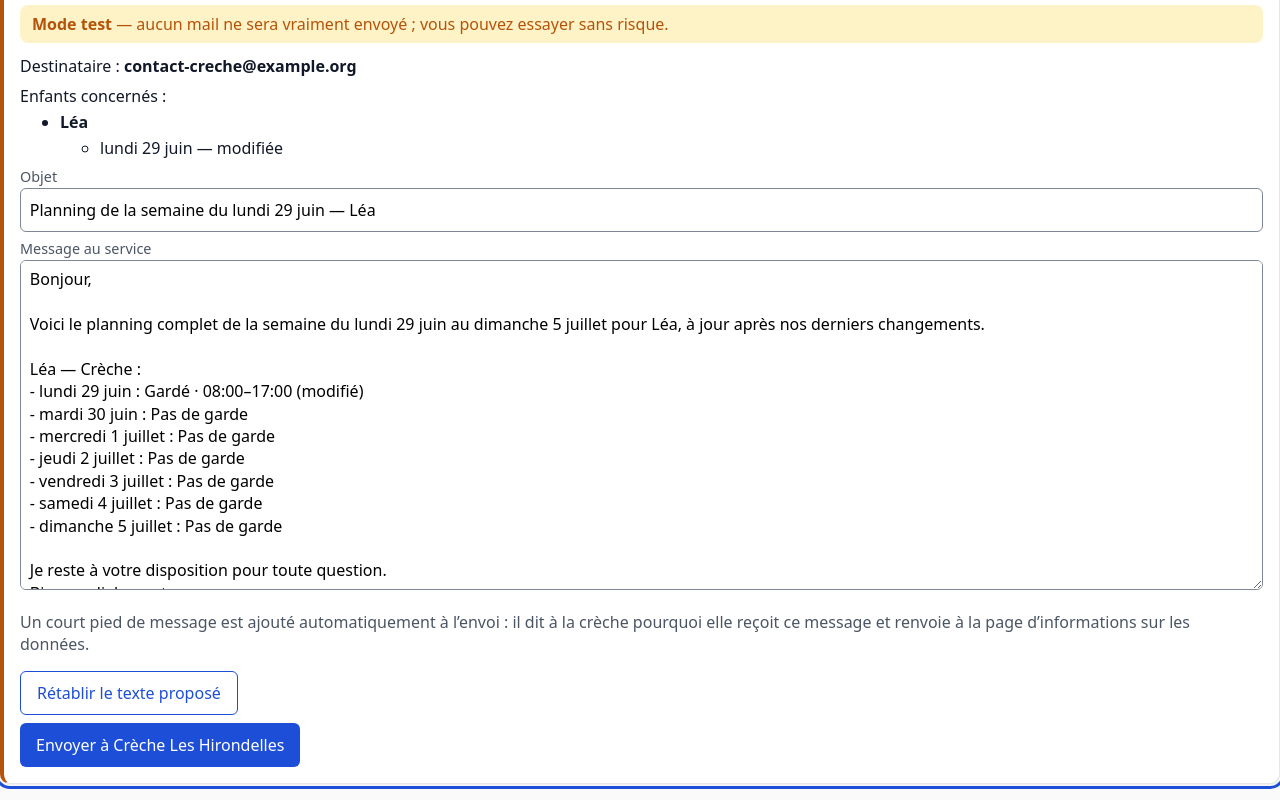
Scenario: RelectureEnvoi (agrégé par établissement) › un résultat EN_COURS n’est pas présenté comme un succès (réessayer possible)
The width and height of the screenshot is (1280, 800).
(page scrolled)
Step 1. Click the button with aria-label "Envoyer le récapitulatif à Crèche Les Hirondelles" → click(160, 745), box x1=20 y1=723 x2=300 y2=767
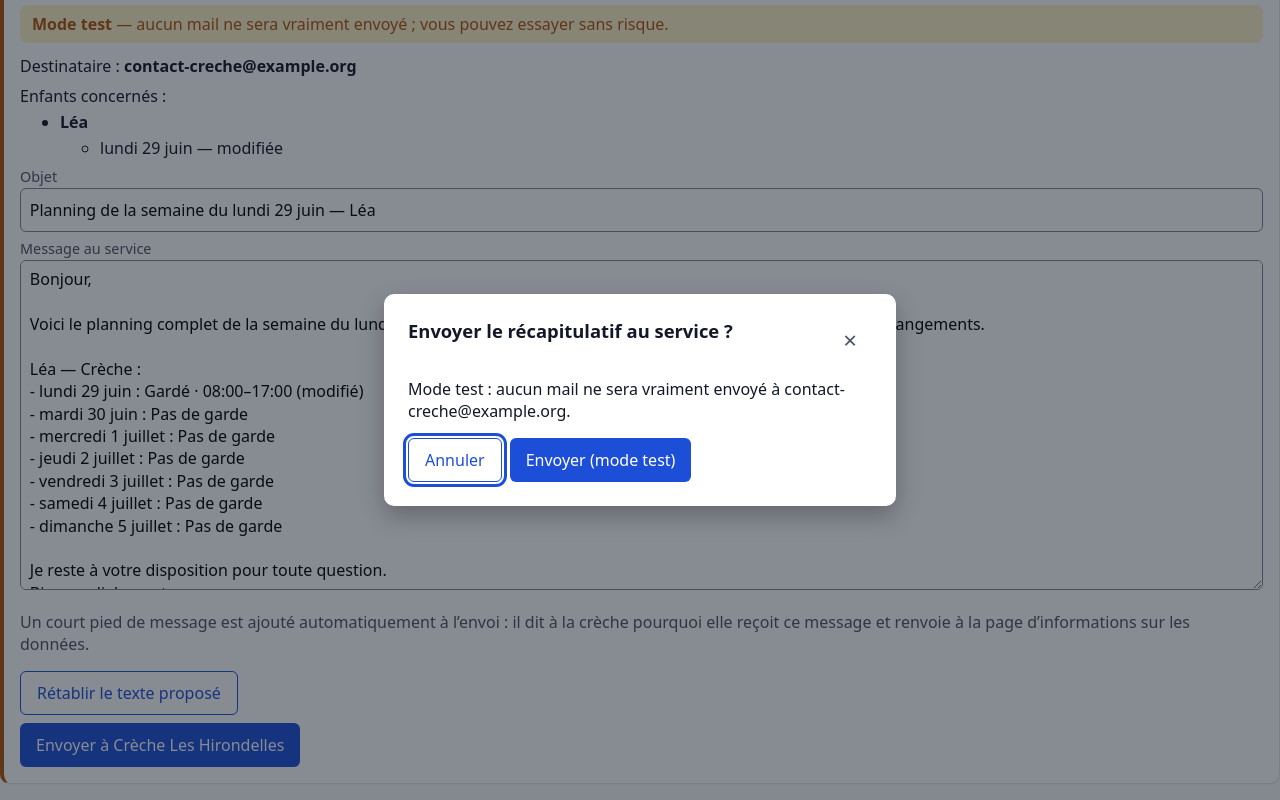
Step 2. Click the button "Envoyer (mode test)" → click(601, 460), box x1=510 y1=438 x2=691 y2=482
(page scrolled)
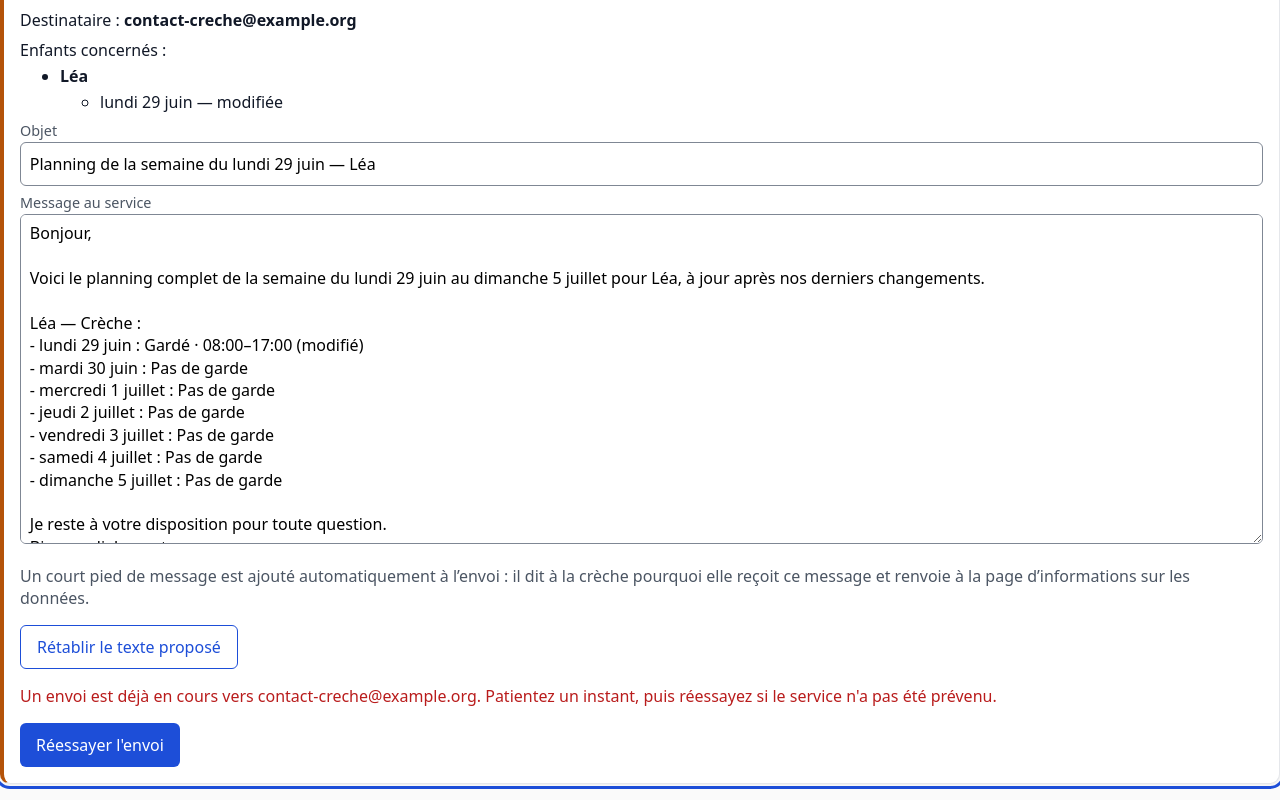
Expected: the button with aria-label "Envoyer le récapitulatif à Crèche Les Hirondelles" is enabled, x1=20 y1=723 x2=180 y2=767
Expected: the message shows "déjà en cours", x1=20 y1=685 x2=997 y2=707
Expected: the button with aria-label "Envoyer le récapitulatif à Crèche Les Hirondelles" reads "Réessayer l'envoi", x1=20 y1=723 x2=180 y2=767
